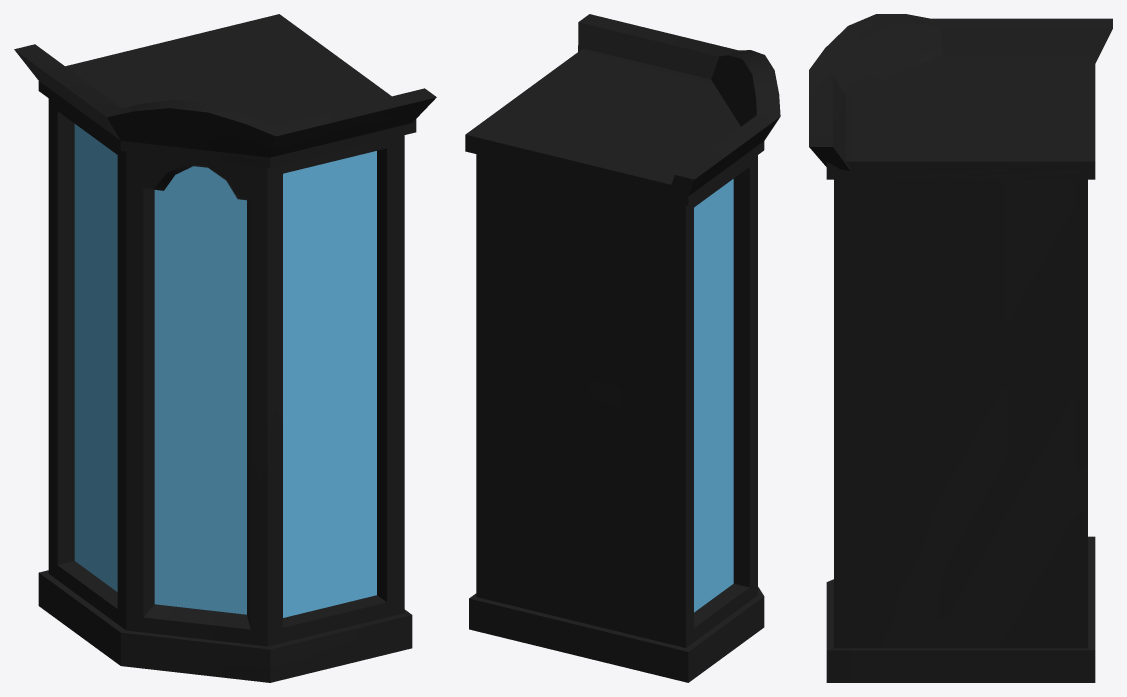
The model's file is closet_001.glb.
3 renders of one model, left to right at view 1: azimuth 30°, elevation 25°; view 2: azimuth 150°, elevation 25°; view 3: azimuth 270°, elevation 25°, orthographic. The views are drawn at different scales.
Visible parts, largest first — view 1: closet_001; view 2: closet_001; view 3: closet_001.
Boxes of the visible parts, x1,y1,x2,y2 form: closet_001: (14, 14, 436, 682); closet_001: (465, 14, 780, 682); closet_001: (809, 14, 1112, 682).
Bounding box in the file's own units: 1.04 × 2.13 × 1.04.
Materials: 1 (1 with a texture image).
